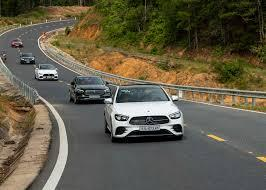mercedes: (145, 115, 153, 124)
